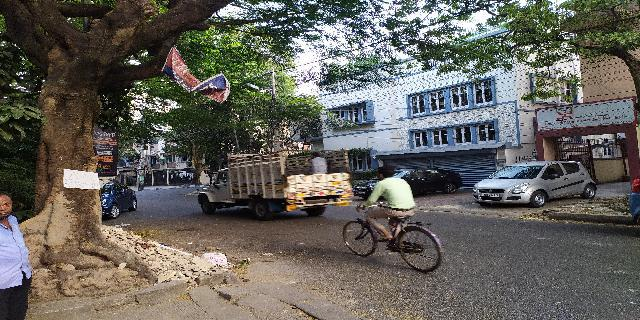Car: (472, 158, 596, 204)
Cycle: (339, 165, 446, 277)
Truck: (193, 152, 350, 215)
